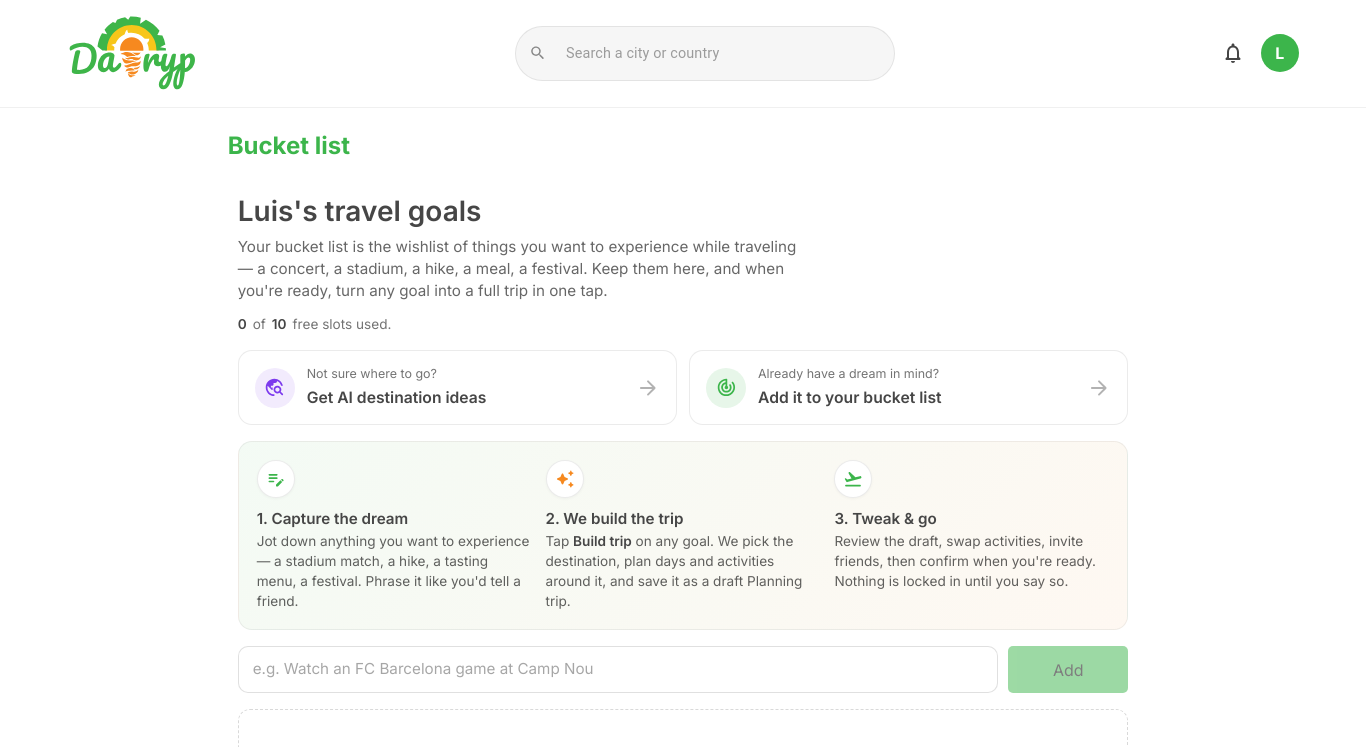
Test case: BucketList › surfaces a generic add error
In the field with placeholder "e.g. Watch an FC Barcelona game at Camp Nou": (618, 670) [238, 646, 998, 693], type "anything"
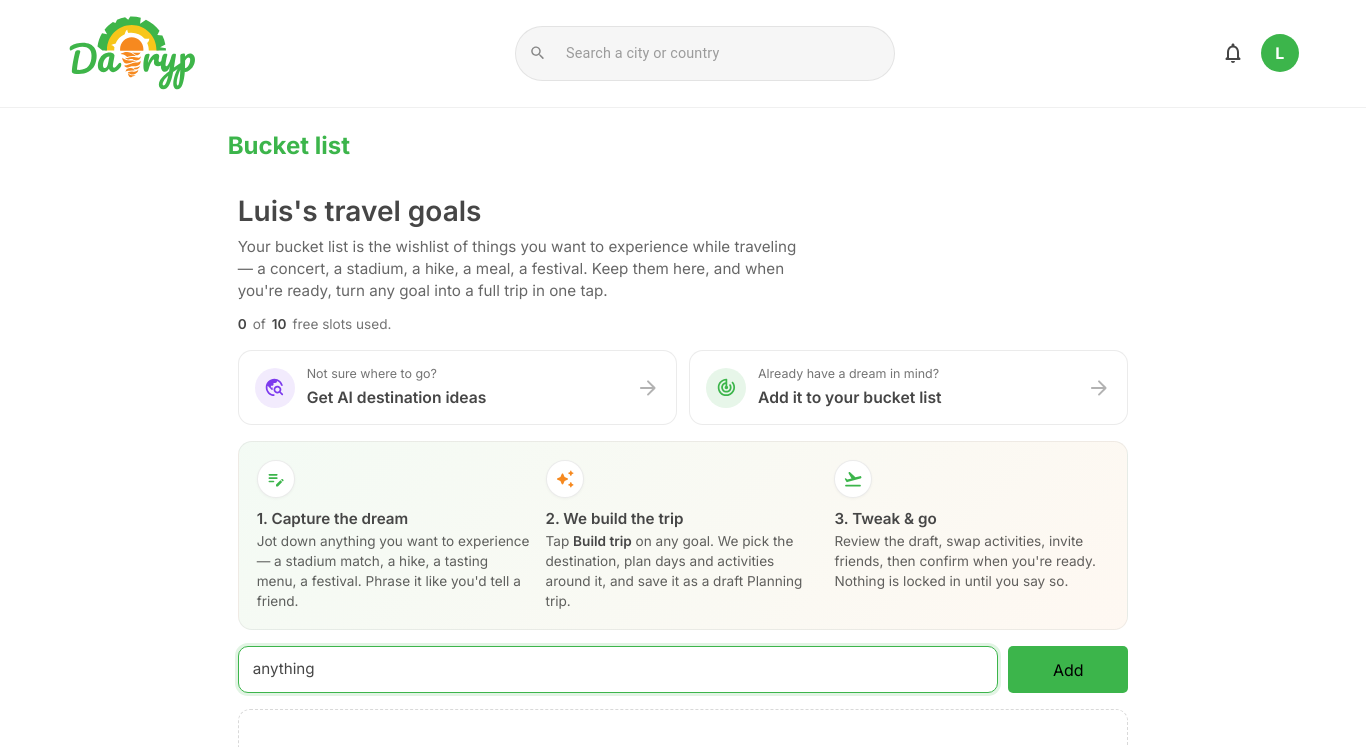
Click the button "Add": (1068, 670) [1008, 646, 1128, 693]
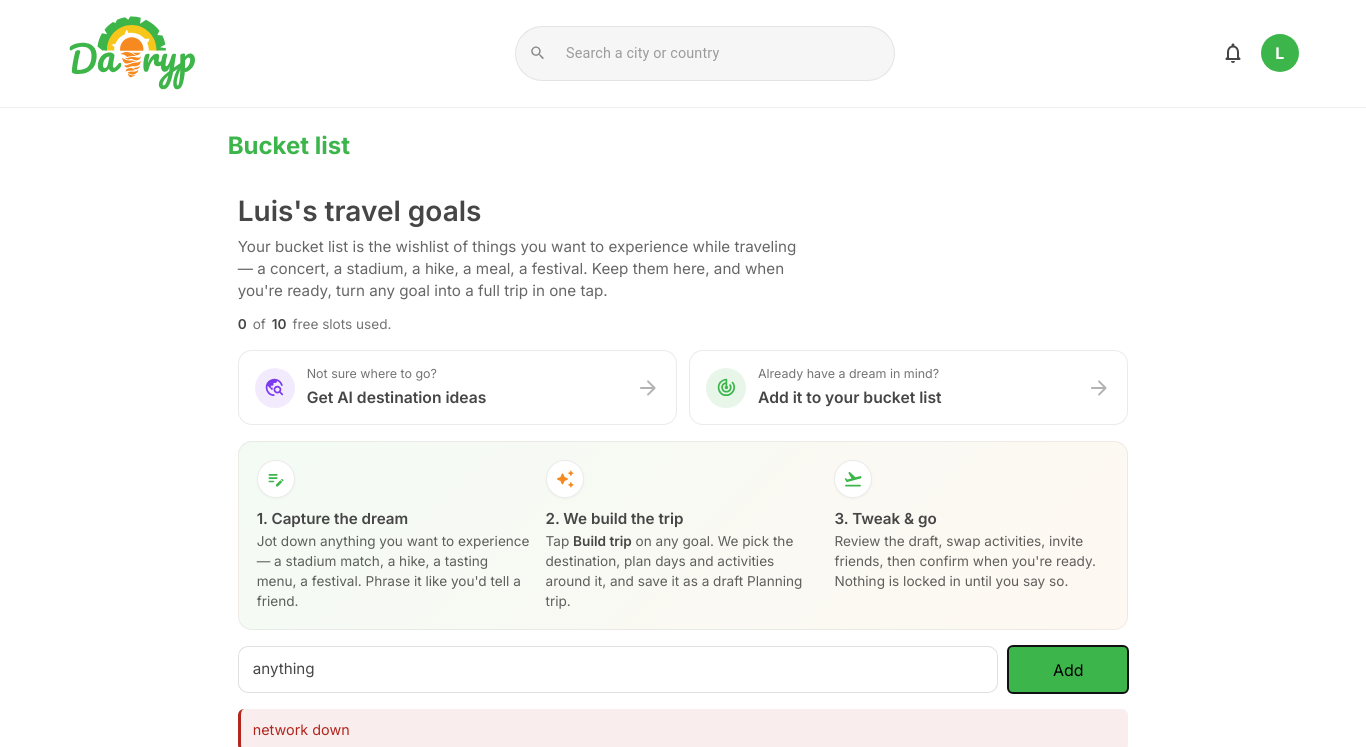
Now the message reads "network down", box [253, 721, 350, 738]
